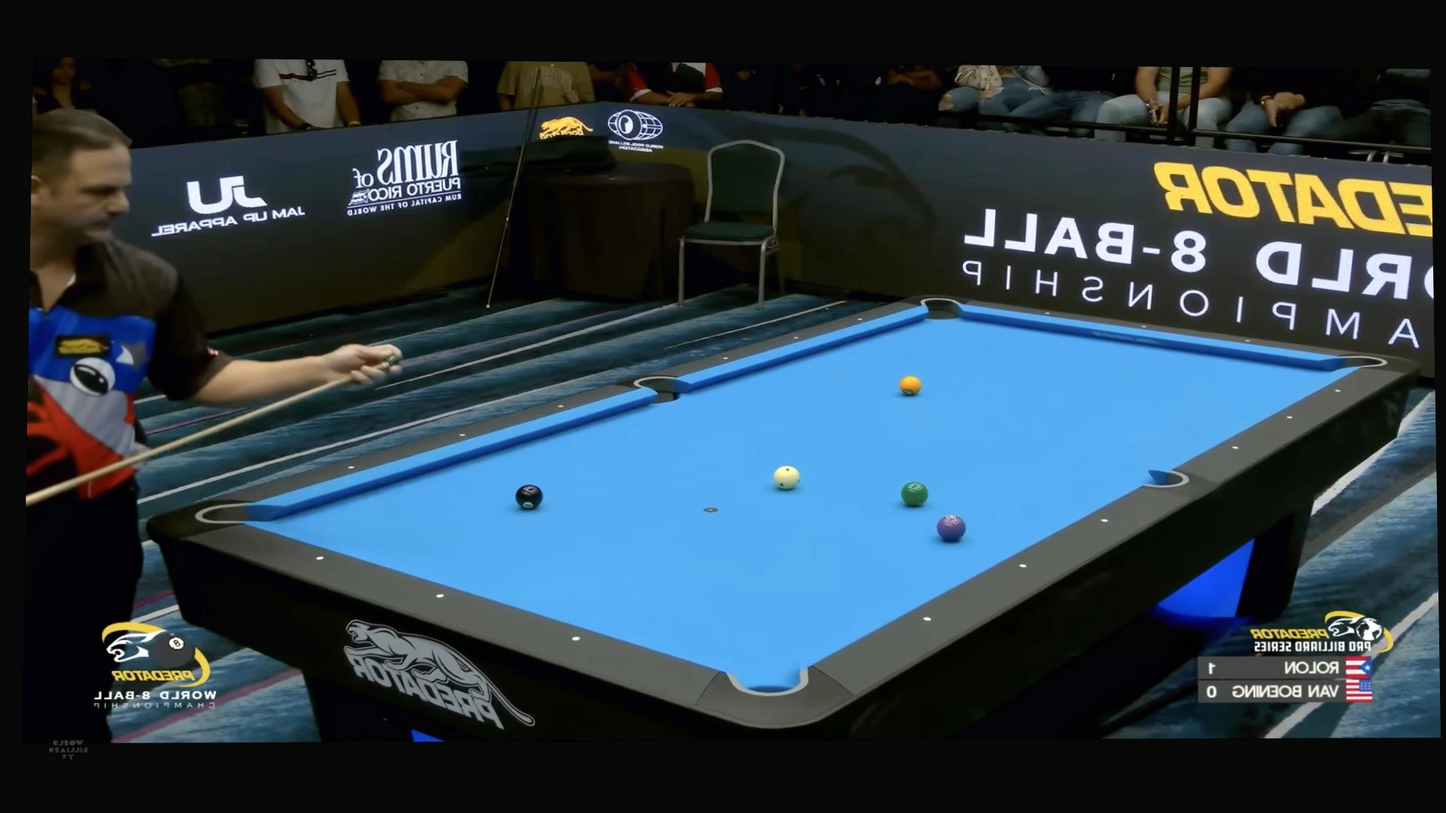Black: (515, 483, 544, 510)
Cue: (773, 465, 800, 491)
Solid: (433, 590, 447, 602), (570, 633, 583, 645), (313, 552, 326, 564), (921, 614, 934, 625), (1018, 561, 1030, 572), (1099, 516, 1111, 526), (1333, 386, 1342, 395), (1230, 444, 1239, 452), (1285, 413, 1294, 421), (347, 464, 354, 470), (557, 404, 564, 410), (1244, 338, 1251, 344), (1141, 324, 1148, 330), (1044, 310, 1050, 316), (857, 316, 863, 322), (460, 433, 466, 438), (794, 335, 800, 340), (723, 356, 729, 361)
Striped: (936, 514, 966, 541), (900, 481, 929, 507), (899, 375, 923, 396)
